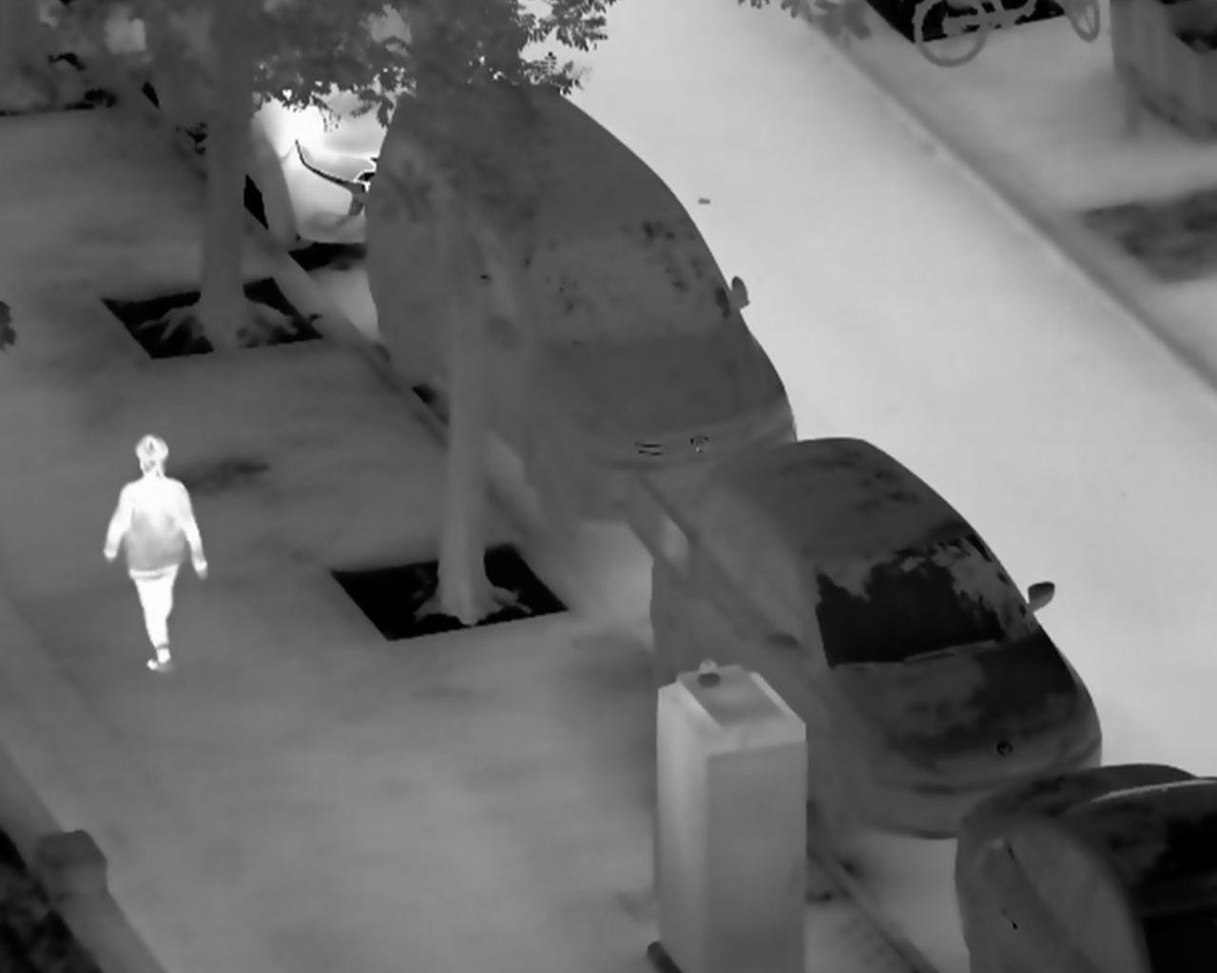person: (103, 434, 209, 676)
